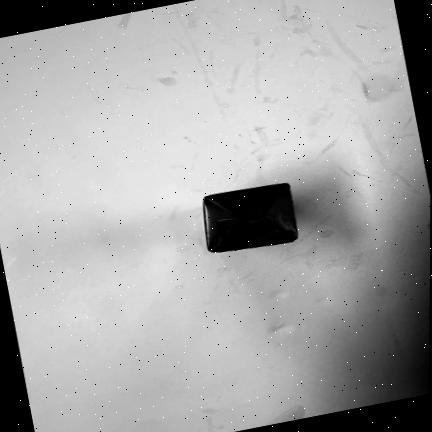gum_green: (205, 183, 302, 254)
